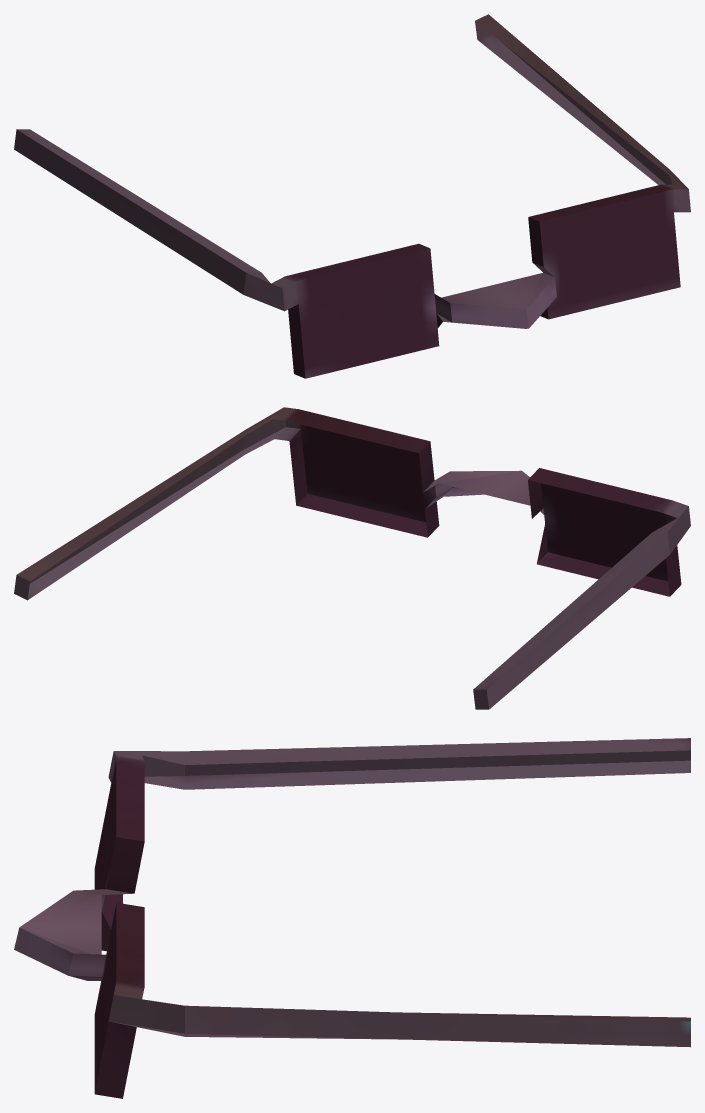
The model's file is Glass.FBX.
The picture shows the model from 3 angles, top to bottom: view 1: azimuth 30°, elevation 25°; view 2: azimuth 150°, elevation 25°; view 3: azimuth 270°, elevation 25°; orthographic projection. The views are drawn at different scales.
Visible parts, largest first — view 1: Glass; view 2: Glass; view 3: Glass.
Boxes of the visible parts, bbox=[...] form: Glass: bbox=[14, 14, 690, 378]; Glass: bbox=[14, 407, 690, 709]; Glass: bbox=[14, 738, 690, 1098].
Bounding box in the file's own units: 213 × 213 × 40.5.
1 material, 1 textured.
